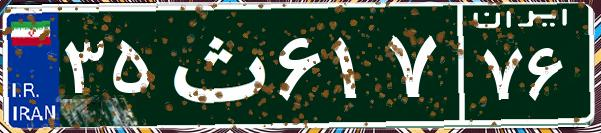1: (330, 28, 385, 110)
3: (57, 26, 110, 107)
5: (110, 28, 158, 105)
6: (273, 28, 330, 110), (525, 38, 570, 115)
7: (385, 28, 445, 110), (475, 38, 525, 113)
ث: (158, 15, 273, 115)
